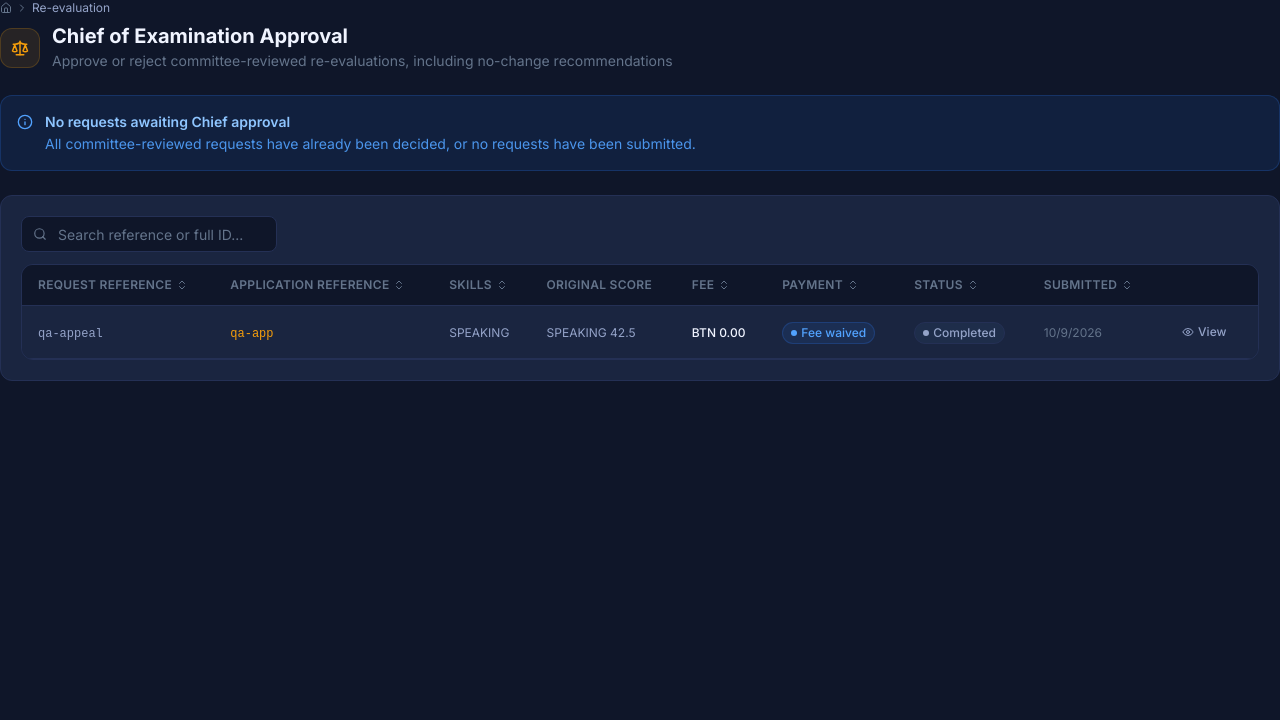
Test: ticks Outcome and displays the applied final score, not the old snapshot as published
The width and height of the screenshot is (1280, 720).
What coordinates should you click on to do the following:
click the button "View"
I would click on:
 (1204, 332)
Its box is [1172, 318, 1236, 346].
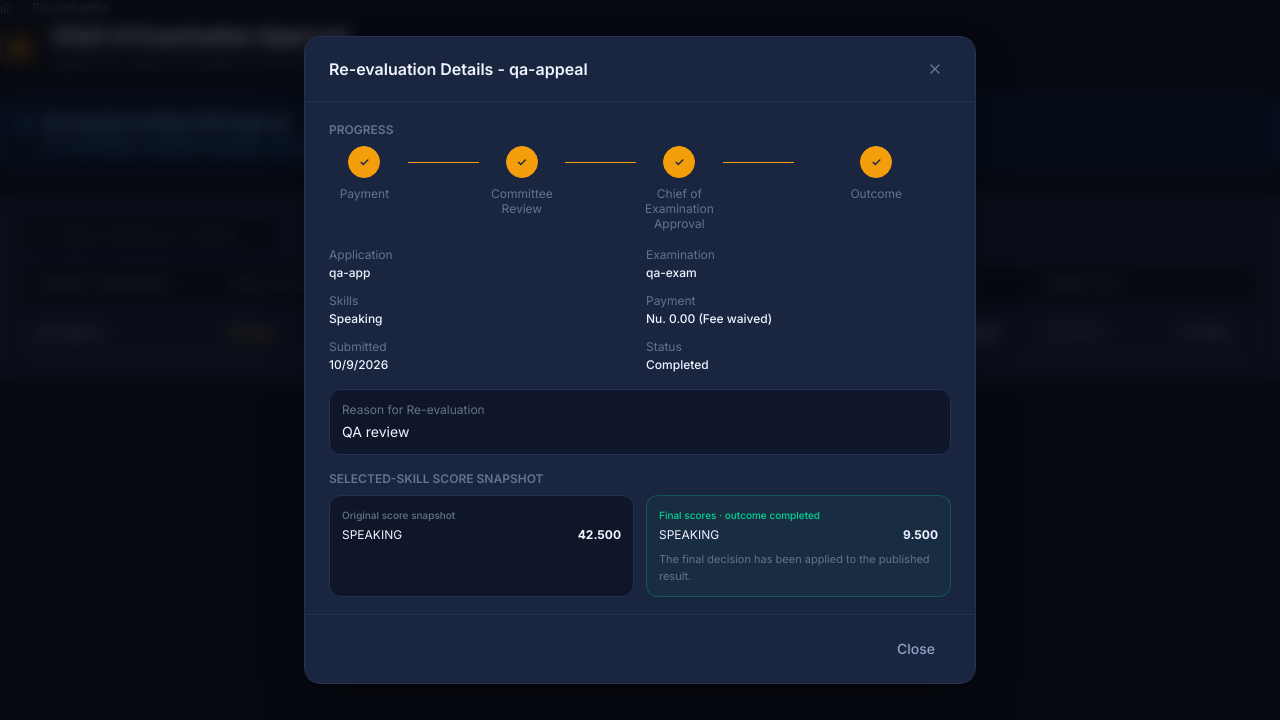
Now the text "✓" is shown 4 times, box [348, 146, 380, 178]; [506, 146, 538, 178]; [663, 146, 695, 178]; [860, 146, 892, 178]
Now the text "Final scores · outcome completed" is shown, box [659, 509, 820, 521]
Now the text "9.500" is shown, box [903, 527, 938, 543]
